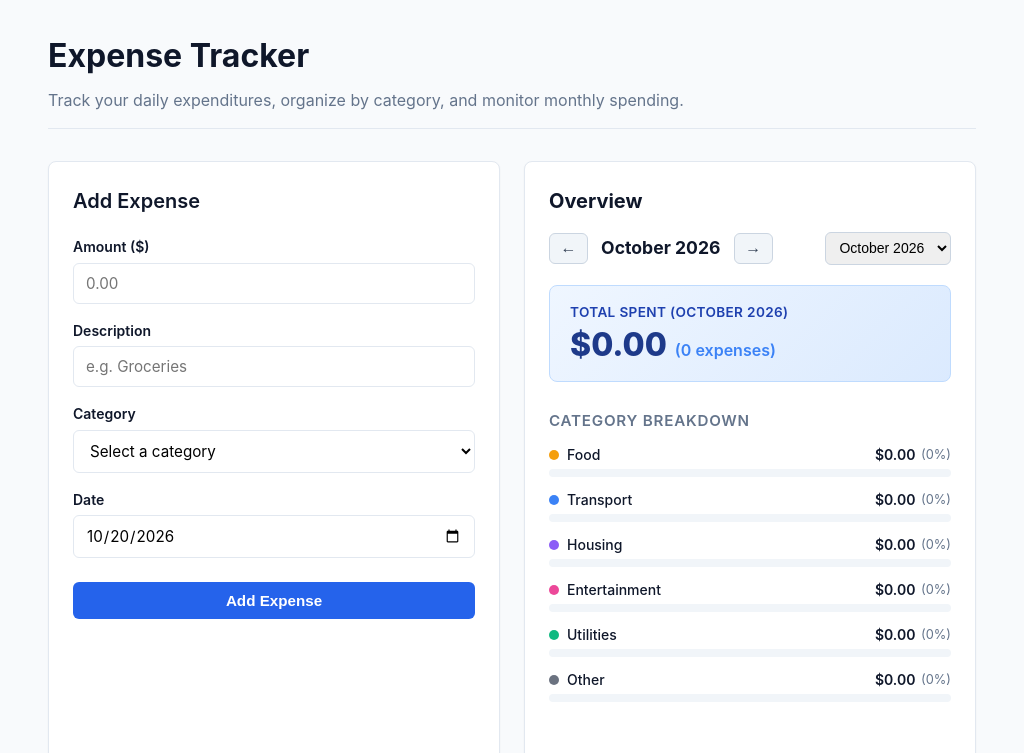
Test: QA Adversarial Test Suite - Issue #3 (UI, Expense Management & LocalStorage Persistence) › 1. Adversarial Form Submission & Inline Validation › displays all 4 inline validation errors when submitting an entirely blank form
Clear the default date to trigger all 4 errors simultaneously
Clear the date field labelled "Date" at (274, 537), box [73,515,475,558]
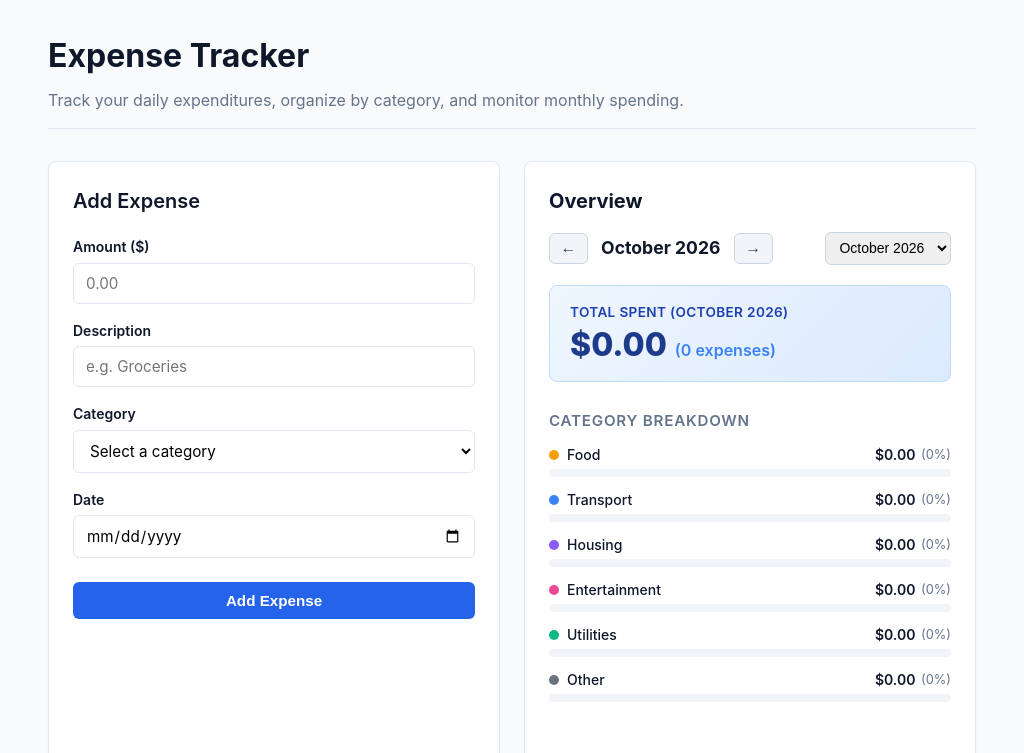
Click the button "Add Expense".
click(274, 601)  # box [73,582,475,619]
(page scrolled)
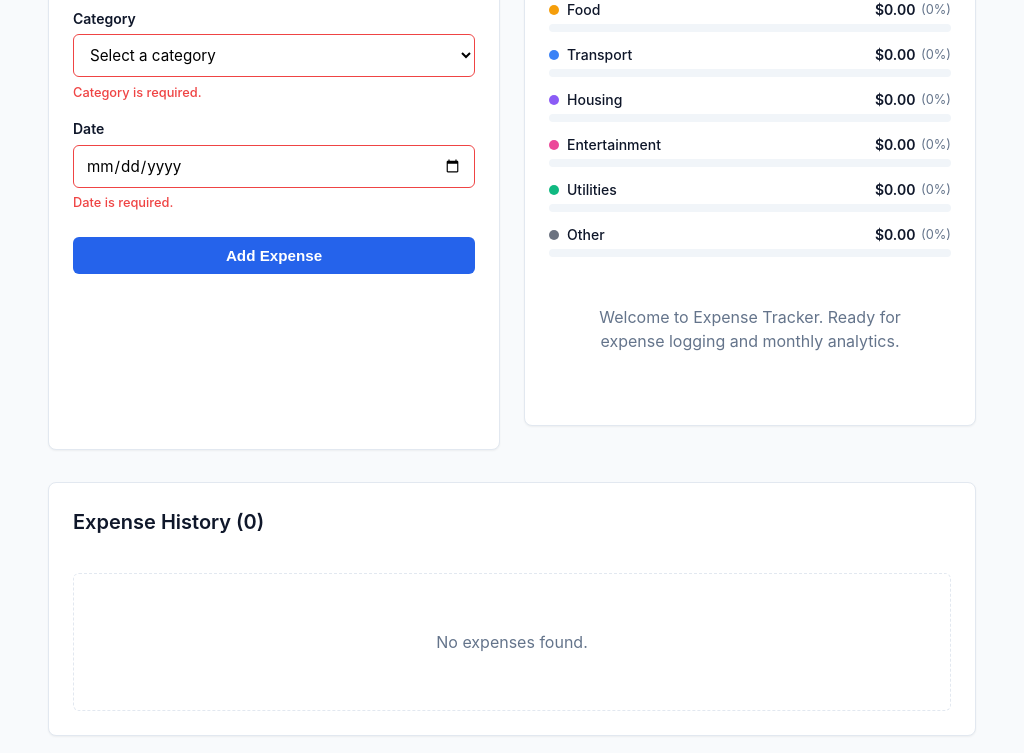
Expected: the text "No expenses found." is shown, [436,632,588,652]
Expected: the text "Category is required." is shown, [73,85,202,100]
Expected: the text "Date is required." is shown, [73,195,173,210]
